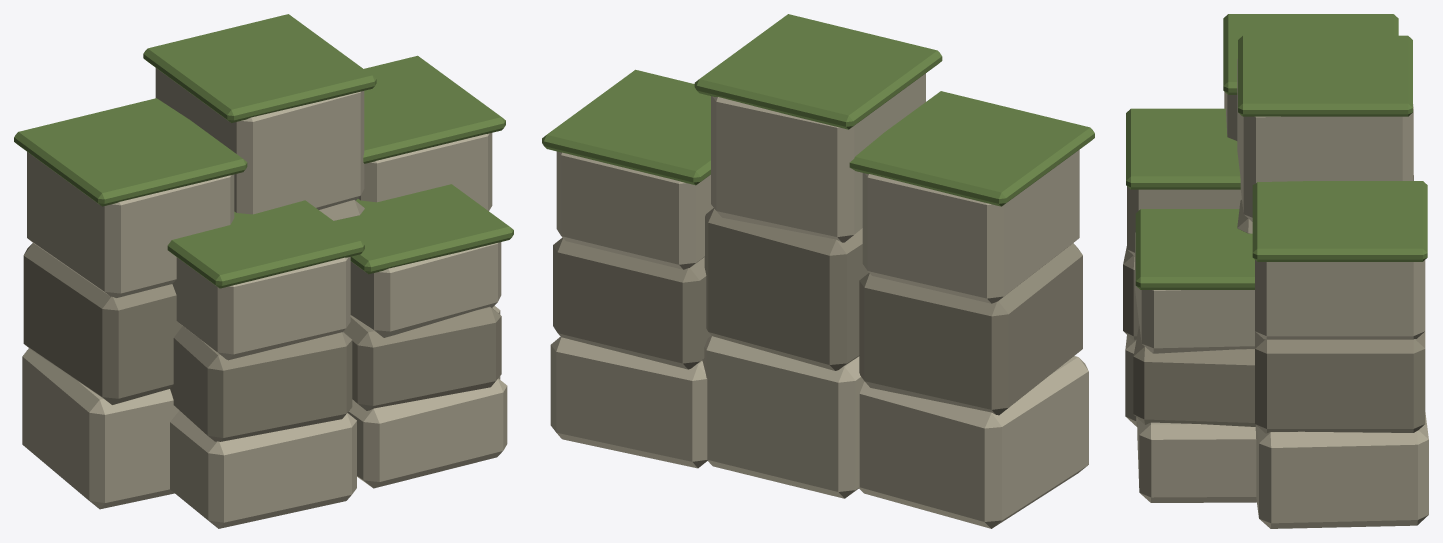
Rendered from rock_cliff.glb.
3 renders of one model, left to right at view 1: azimuth 30°, elevation 25°; view 2: azimuth 150°, elevation 25°; view 3: azimuth 270°, elevation 25°, orthographic. The views are drawn at different scales.
Parts seen in each view (by area): view 1: Cliff; view 2: Cliff; view 3: Cliff.
Boxes of the visible parts, left/top/right/bottom form: Cliff: left=14, top=14, right=513, bottom=528; Cliff: left=542, top=14, right=1094, bottom=528; Cliff: left=1123, top=14, right=1428, bottom=528.
Size of what is drawn, in the model's own units: 4.98 by 4.1 by 3.14.
